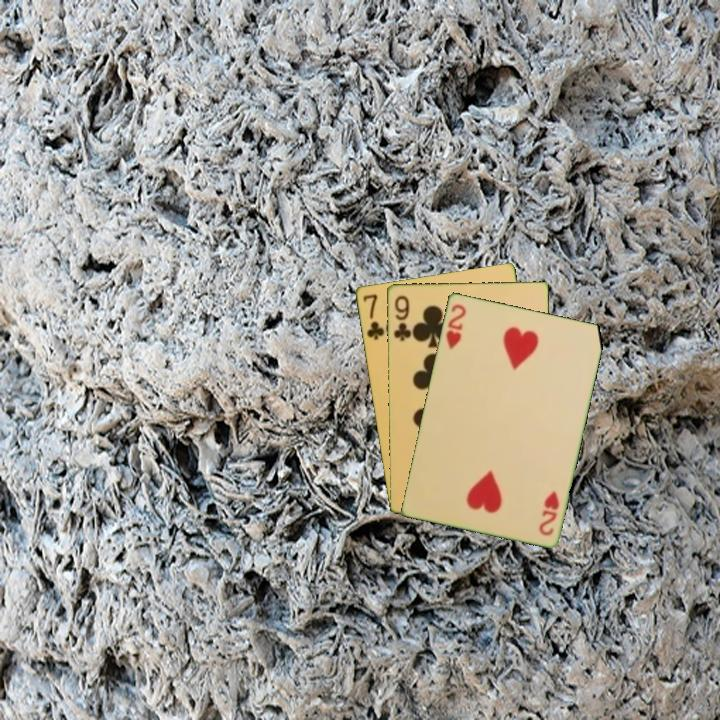2h: (442, 300, 469, 352), (535, 487, 562, 538)
7c: (359, 290, 387, 343)
9c: (390, 292, 413, 343)
